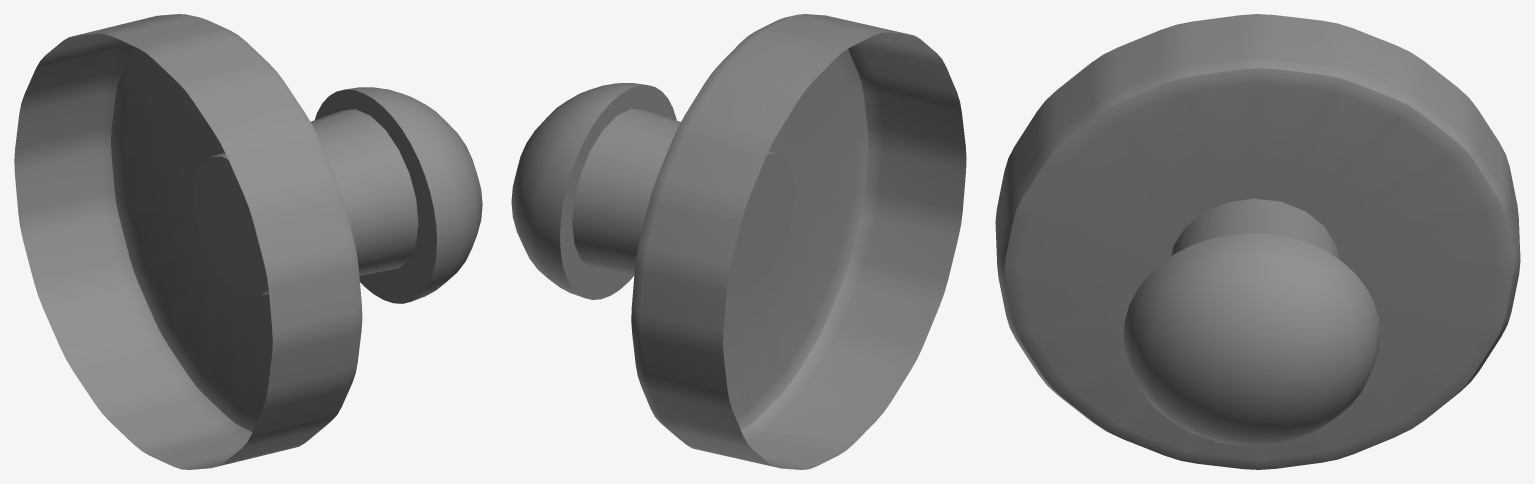
File: ManijaWood.fbx
3 views of the same model, side by side, from view 1: azimuth 30°, elevation 25°; view 2: azimuth 150°, elevation 25°; view 3: azimuth 270°, elevation 25° (orthographic). The views are drawn at different scales.
Visible parts, largest first — view 1: polySurface29; view 2: polySurface29; view 3: polySurface29.
Boxes of the visible parts, bbox=[...] form: polySurface29: bbox=[14, 14, 482, 469]; polySurface29: bbox=[511, 14, 966, 469]; polySurface29: bbox=[995, 14, 1520, 469].
Size of the model in its own units: 9.73 by 11.53 by 13.21.
